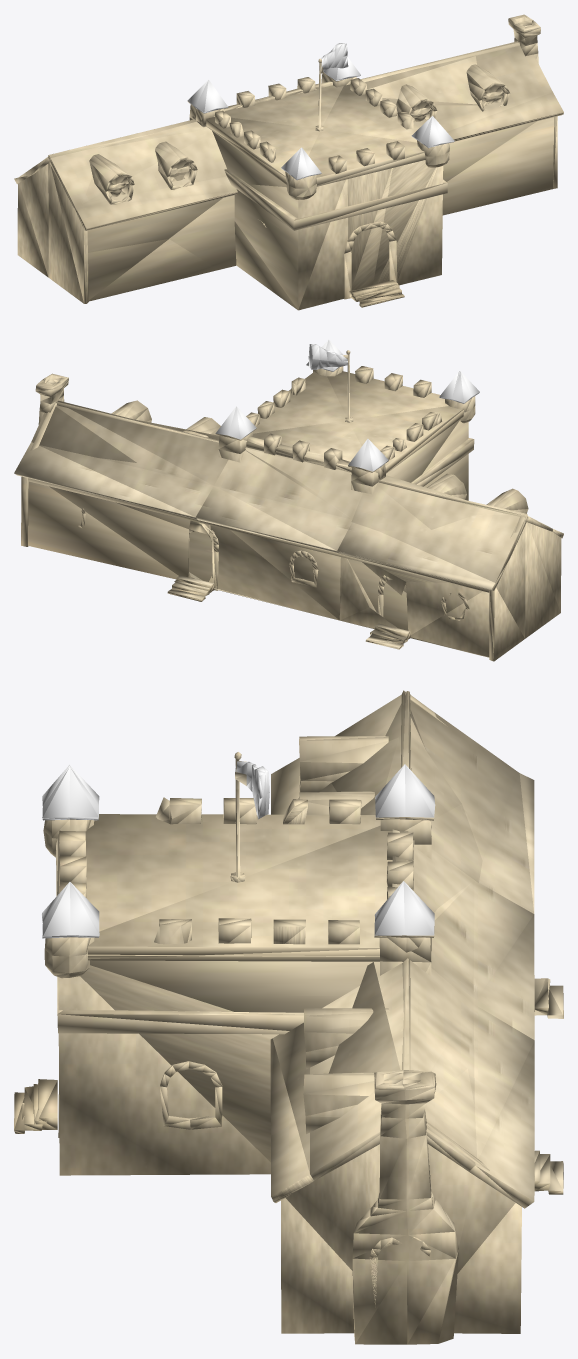
Rendered from castle.8.glb.
3 views of the same model, one above another, from view 1: azimuth 30°, elevation 25°; view 2: azimuth 150°, elevation 25°; view 3: azimuth 270°, elevation 25° (orthographic). The views are drawn at different scales.
Parts seen in each view (by area): view 1: castle; view 2: castle; view 3: castle.
Part boxes in pixels (x1,y1,x2,y2): castle: (14,14,563,310); castle: (14,339,563,661); castle: (14,690,563,1344).
Bounding box in the file's own units: 2.9 × 1.17 × 1.57.
Materials: 2 (1 with a texture image).
